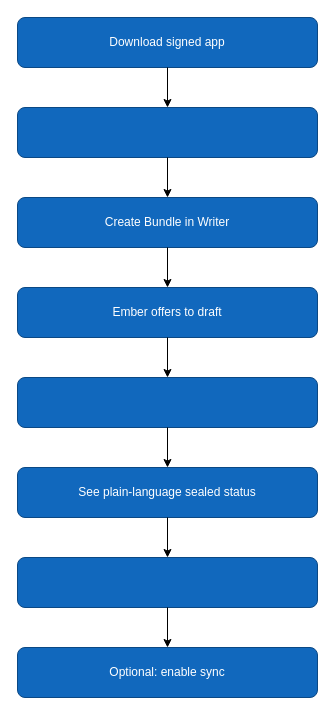
Image size: 335x715. Some labels were removed from this diagram. Here are the shapes that lost their labels. From the top down, the box of each, then its label:
(16, 106, 318, 158): Open - no account needed
(16, 376, 318, 428): Seal Bundle for colleague
(16, 556, 318, 608): Reopen offline next day
